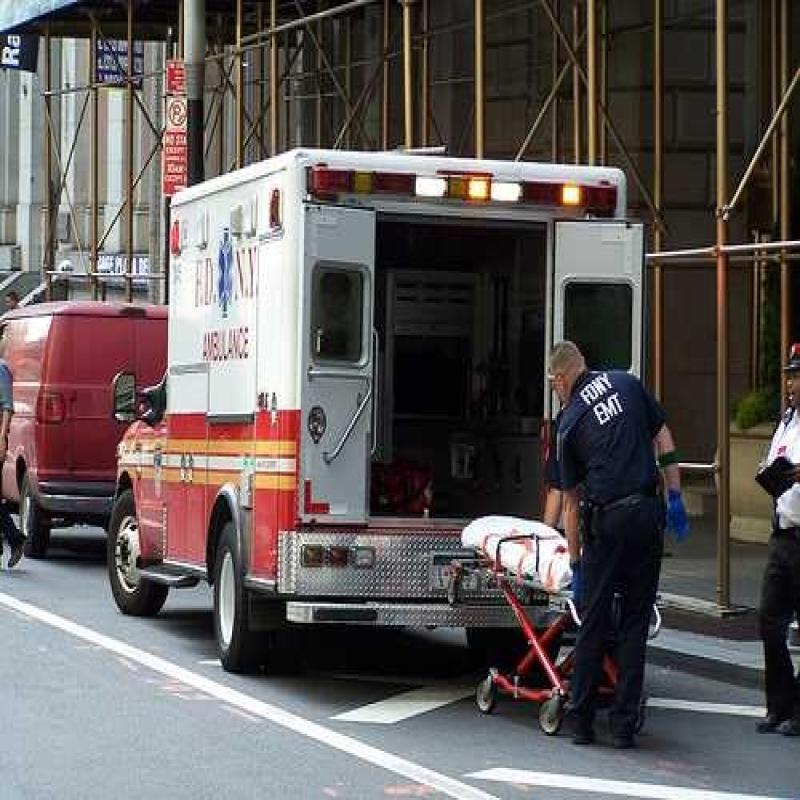AmbulanceSiren: (300, 150, 619, 236)
